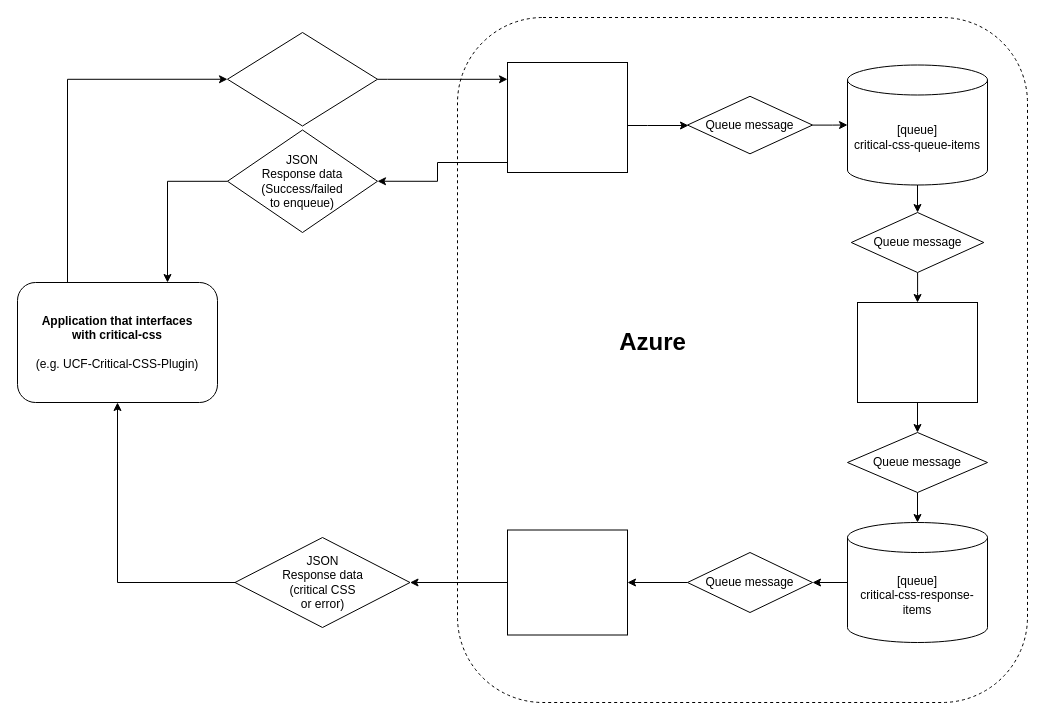
Image size: 1045x720. Some labels were removed from this diagram. Each missing label, with the centre of its shape:
"[function] critical-css-queue" belongs at (917,352).
"[function] enqueue-job" belongs at (567,117).
"[function] send-response" belongs at (567,582).
"JSON CSS generation args" belongs at (302,79).
